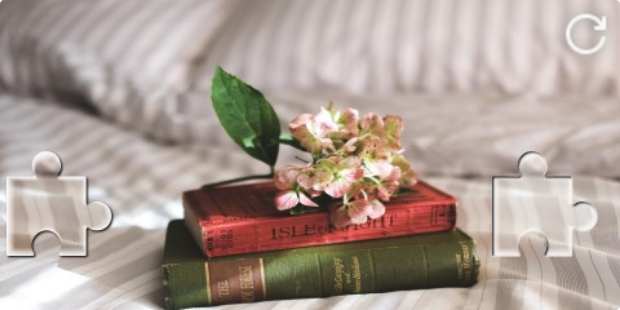target: (492, 151, 598, 257)
